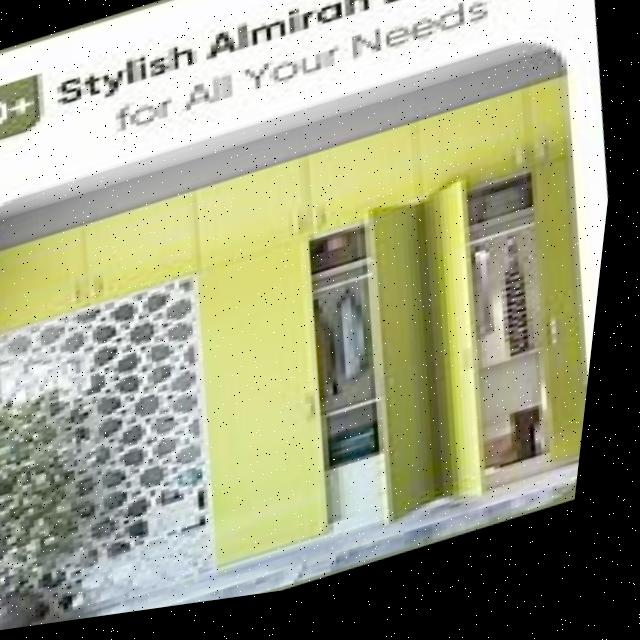dolap: (0, 75, 627, 640)
